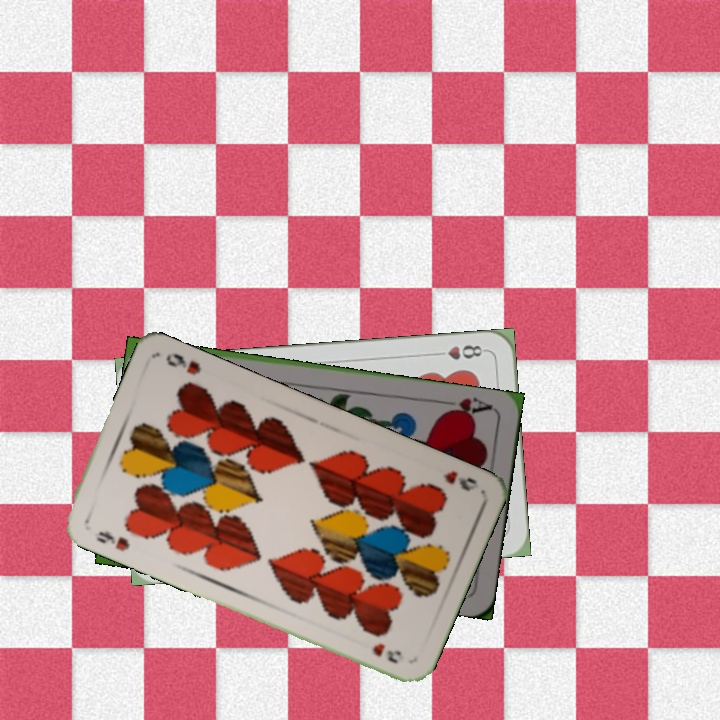H8: (430, 341, 489, 362)
H9: (440, 466, 481, 494), (92, 527, 132, 554)
HA: (436, 393, 496, 421)
